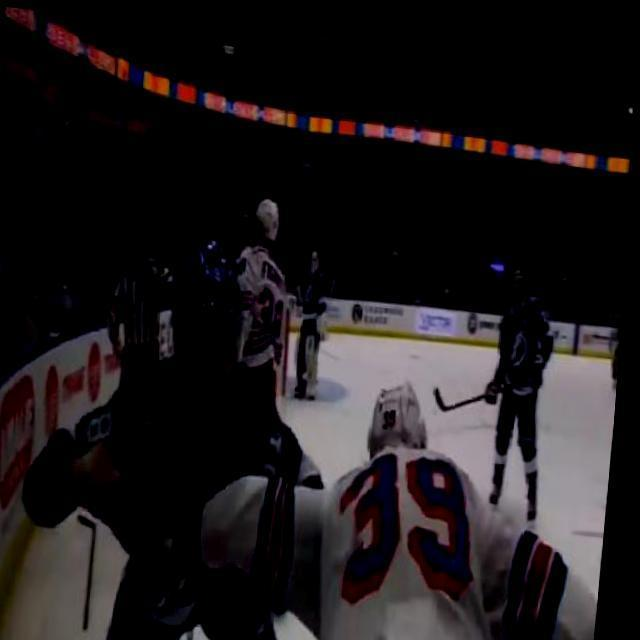fight: (0, 201, 389, 640), (143, 332, 620, 640)
